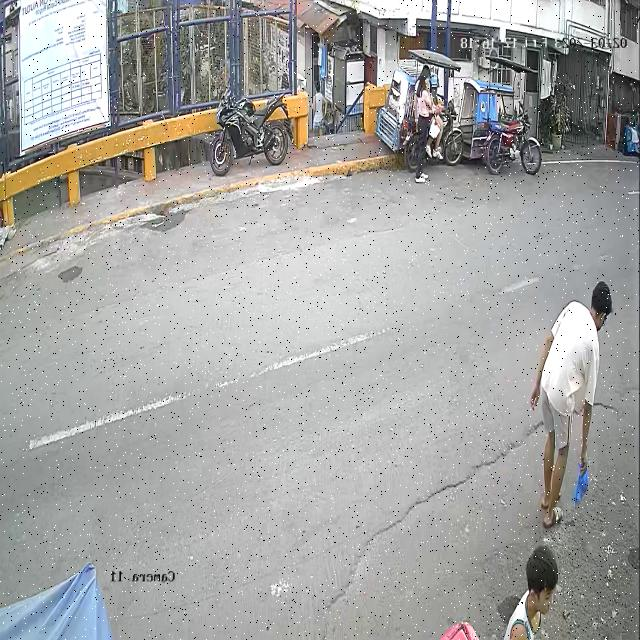garbage_dumping: (574, 461, 592, 510)
